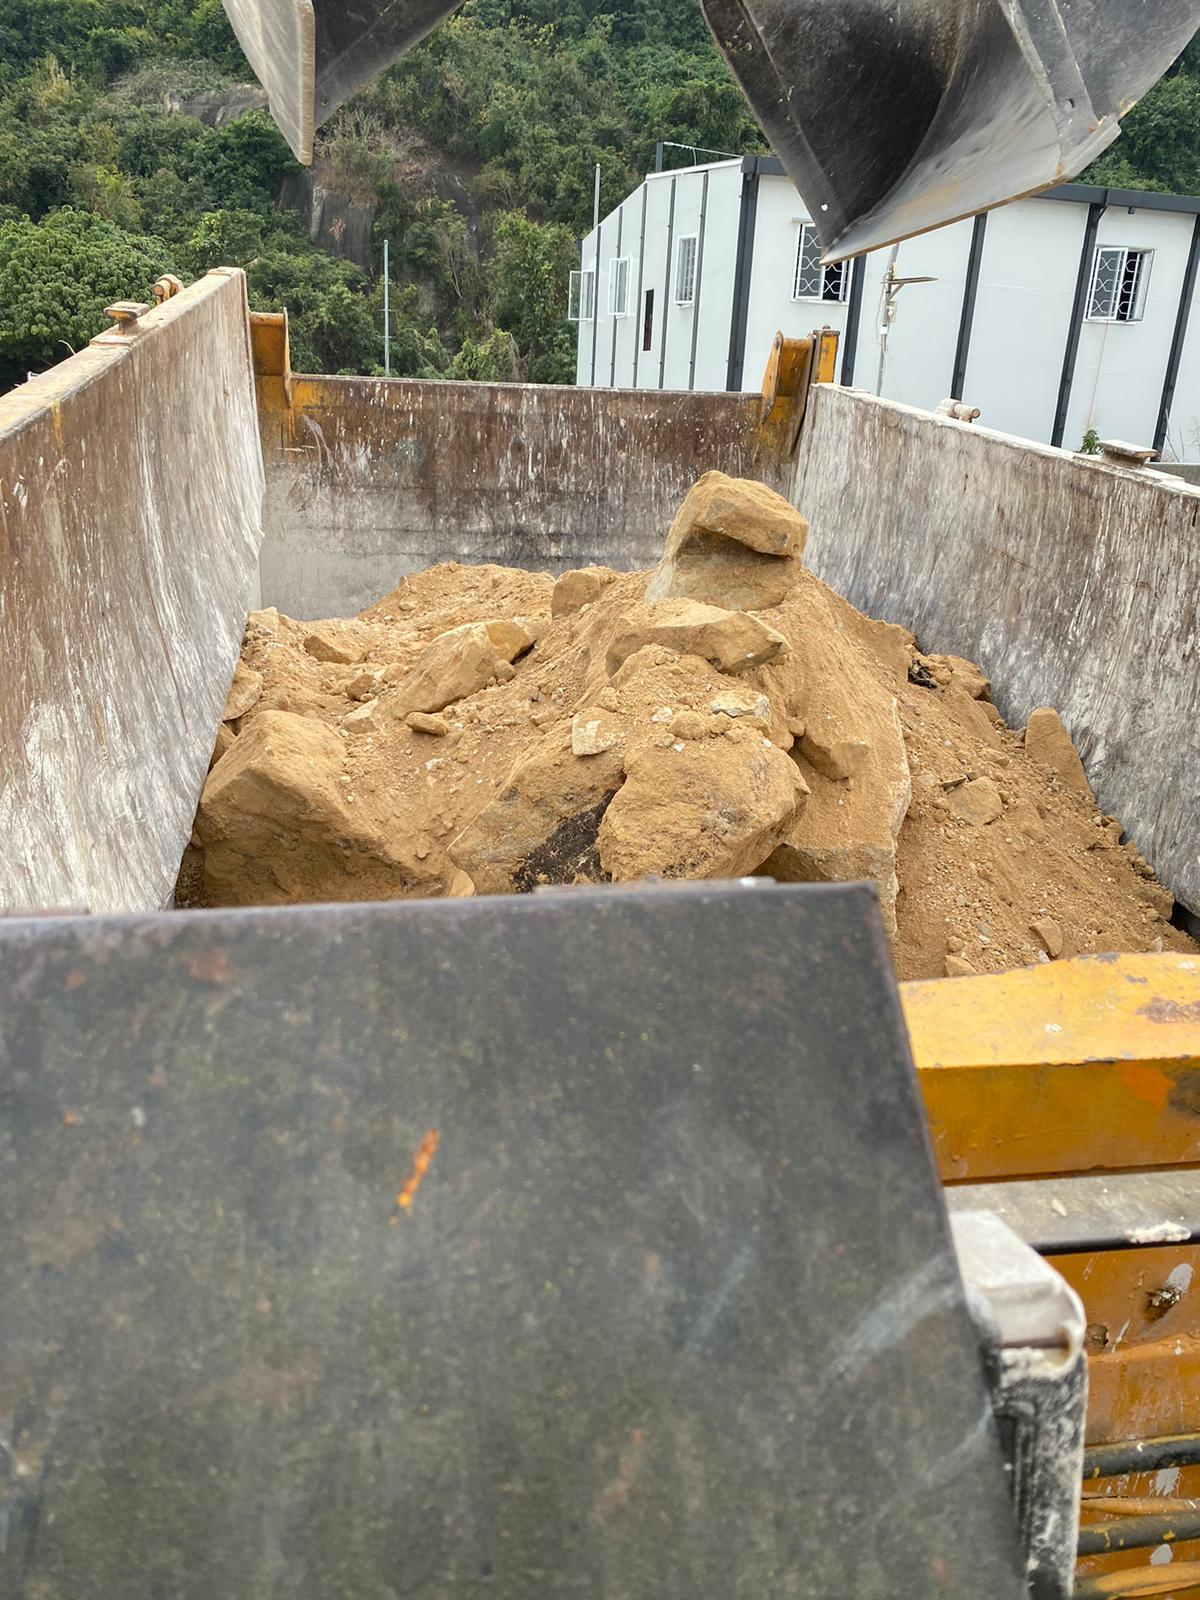dry: (270, 538, 1073, 907)
